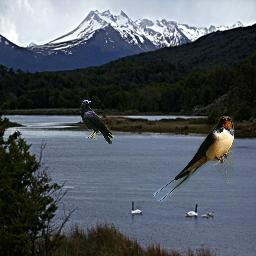Crow: (80, 100, 114, 144)
Swallow: (153, 116, 234, 202)
